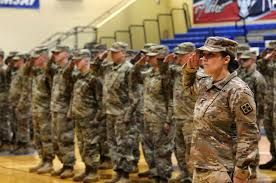uniform: (193, 65, 258, 177), (160, 58, 199, 159), (102, 49, 133, 169), (73, 51, 100, 173), (145, 54, 173, 169), (51, 50, 75, 169), (31, 53, 54, 167), (7, 58, 28, 145)
